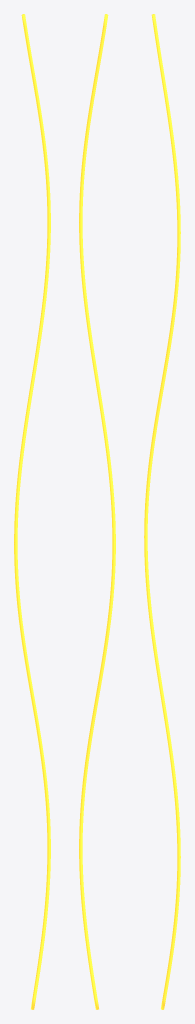
Rendered from SM_RelicSpine.fbx.
The picture shows the model from 3 angles, left to right: view 1: azimuth 30°, elevation 25°; view 2: azimuth 150°, elevation 25°; view 3: azimuth 330°, elevation 25°; orthographic projection.
Parts seen in each view (by area): view 1: SM_RelicSpine.001; view 2: SM_RelicSpine.001; view 3: SM_RelicSpine.001.
Boxes of the visible parts, bbox=[...] form: SM_RelicSpine.001: bbox=[14, 14, 50, 1009]; SM_RelicSpine.001: bbox=[79, 14, 115, 1009]; SM_RelicSpine.001: bbox=[144, 14, 180, 1009].
Size of the model in its own units: 75.54 by 6.4 by 2001.
